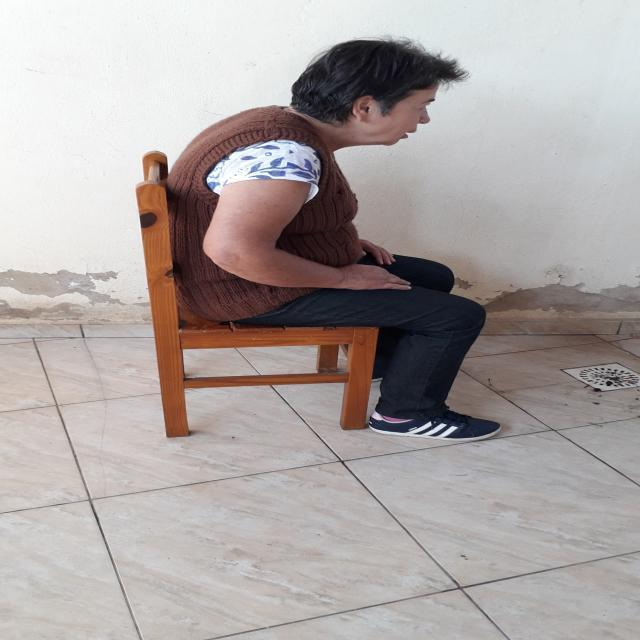bad-pose: (0, 0, 640, 640)
